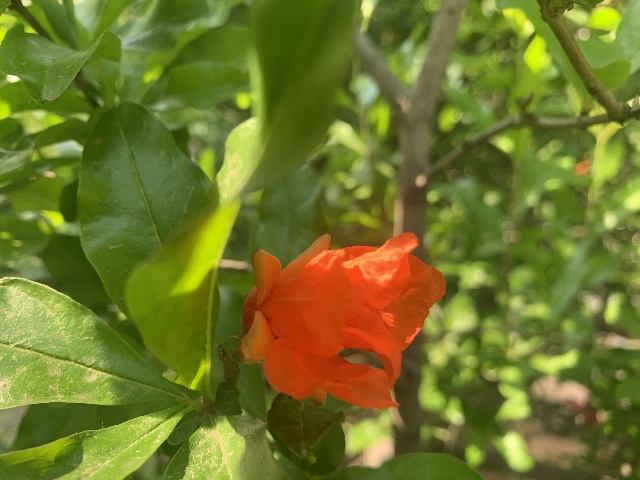flower: (239, 231, 447, 410)
